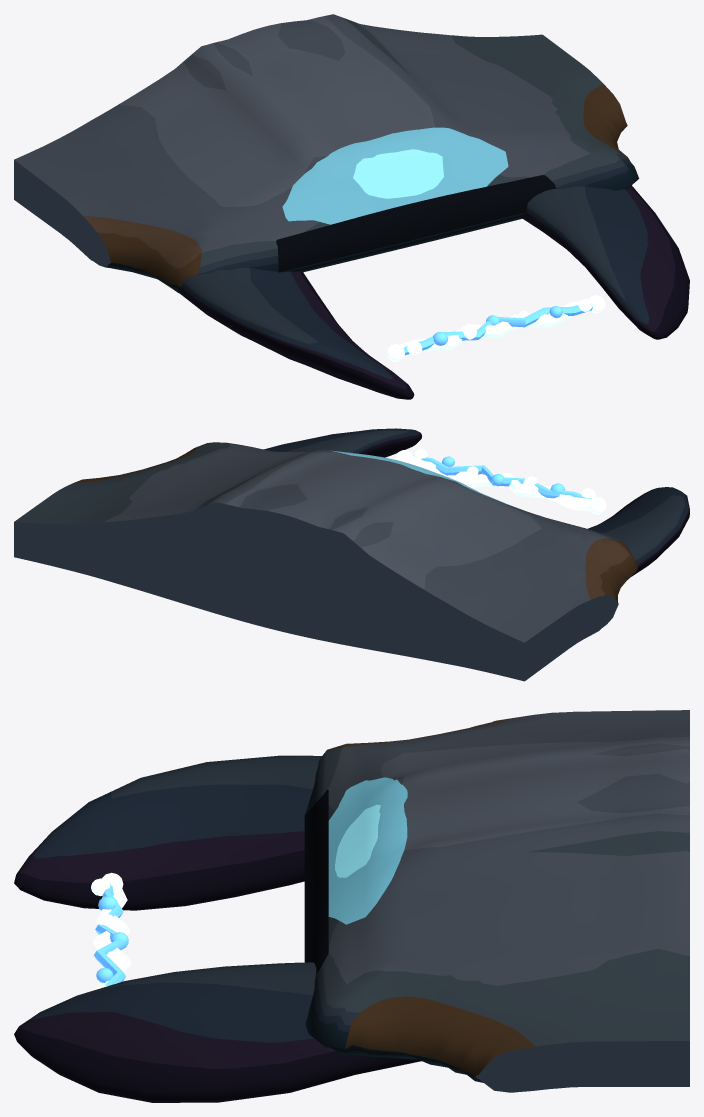
The model's file is coral_manta_head_271.glb.
The picture shows the model from 3 angles, top to bottom: view 1: azimuth 30°, elevation 25°; view 2: azimuth 150°, elevation 25°; view 3: azimuth 270°, elevation 25°; orthographic projection. The views are drawn at different scales.
Visible parts, largest first — view 1: coral_manta_head_271; view 2: coral_manta_head_271; view 3: coral_manta_head_271.
Part boxes in pixels (x1,y1,x2,y2): coral_manta_head_271: (14, 14, 689, 399); coral_manta_head_271: (14, 428, 689, 681); coral_manta_head_271: (14, 710, 689, 1102).
Size of the model in its own units: 24 by 7.09 by 21.04.
